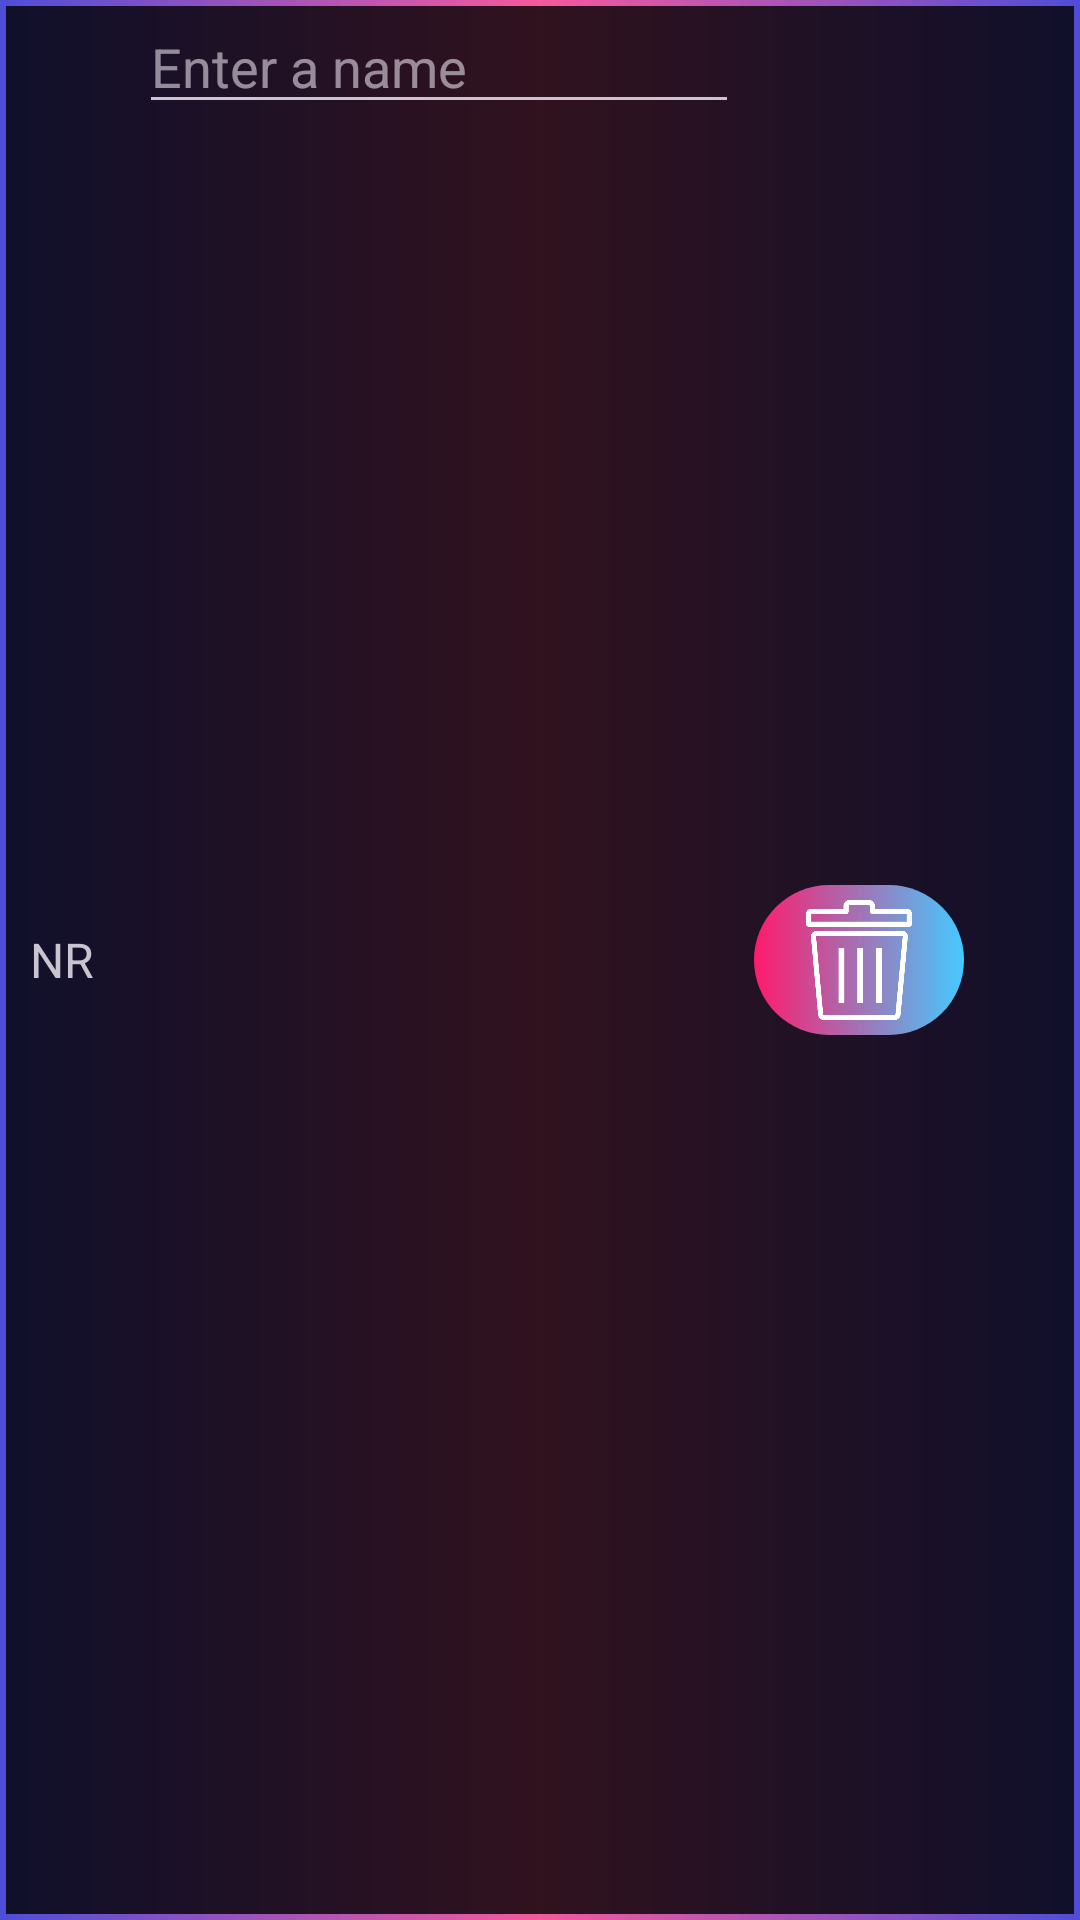

Screen size 1080 × 1920. Icon name, then its box in pixels as box(x1, y1, x2, y2):
bin: box(754, 885, 964, 1035)
